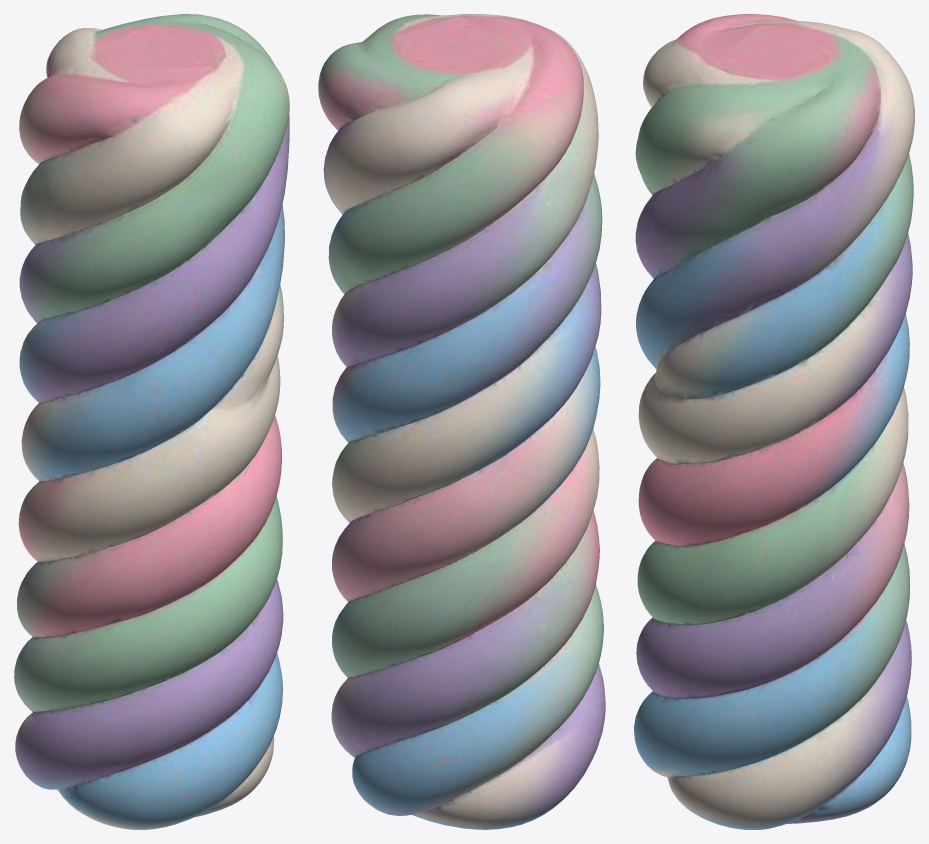
The picture shows the model from 3 angles, left to right: view 1: azimuth 30°, elevation 25°; view 2: azimuth 150°, elevation 25°; view 3: azimuth 270°, elevation 25°; orthographic projection.
Bounding box in the file's own units: 0.6721 × 1.9 × 0.6493.
Materials: 1 (1 with a texture image).
